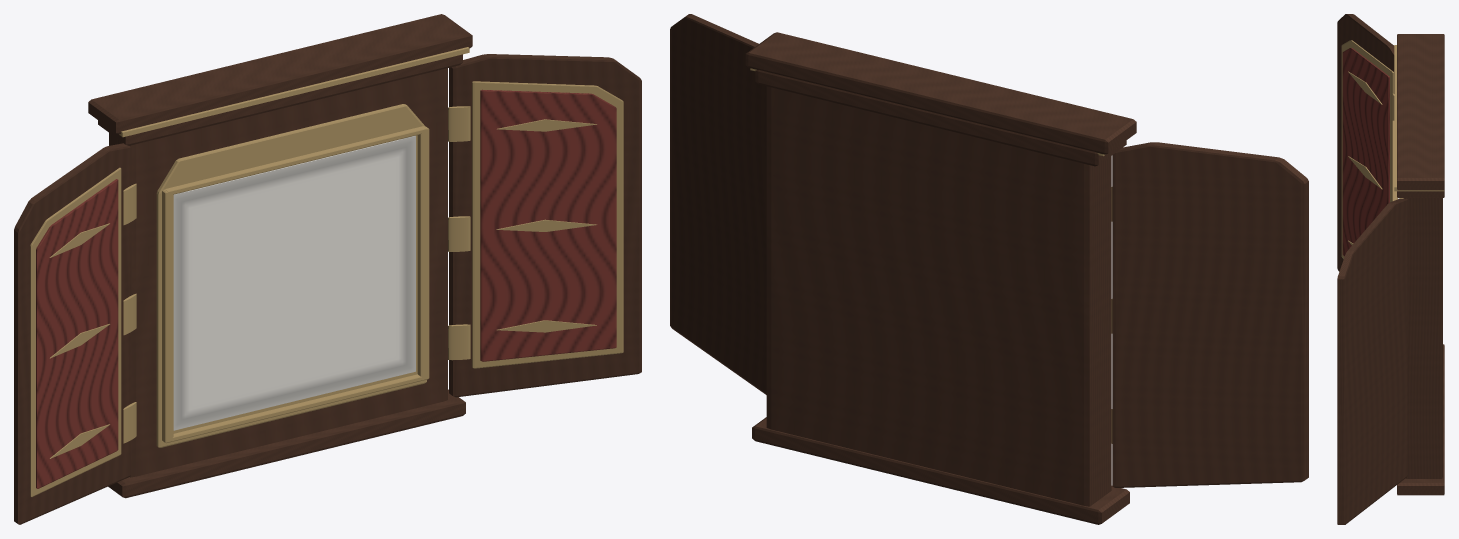
The model's file is s01-collector-triptych-balanced.glb.
The picture shows the model from 3 angles, left to right: view 1: azimuth 30°, elevation 25°; view 2: azimuth 150°, elevation 25°; view 3: azimuth 270°, elevation 25°; orthographic projection. The views are drawn at different scales.
Visible parts, largest first — view 1: Picture recess, Right hinged leaf, Case and cornice, Left hinged leaf; view 2: Case and cornice, Left hinged leaf, Right hinged leaf; view 3: Right hinged leaf, Case and cornice, Left hinged leaf, Picture recess.
Part boxes in pixels (x1,y1,x2,y2): Picture recess: [156, 104, 429, 447]; Right hinged leaf: [448, 54, 641, 397]; Case and cornice: [88, 14, 472, 498]; Left hinged leaf: [14, 143, 136, 524]; Case and cornice: [745, 32, 1136, 524]; Left hinged leaf: [1111, 142, 1308, 487]; Right hinged leaf: [670, 14, 766, 394]; Right hinged leaf: [1337, 198, 1407, 524]; Case and cornice: [1394, 34, 1444, 495]; Left hinged leaf: [1337, 14, 1404, 271]; Picture recess: [1392, 120, 1403, 201].
Size of the model in its own units: 3.95 by 2.3 by 0.7.
Materials: 1 (1 with a texture image).
